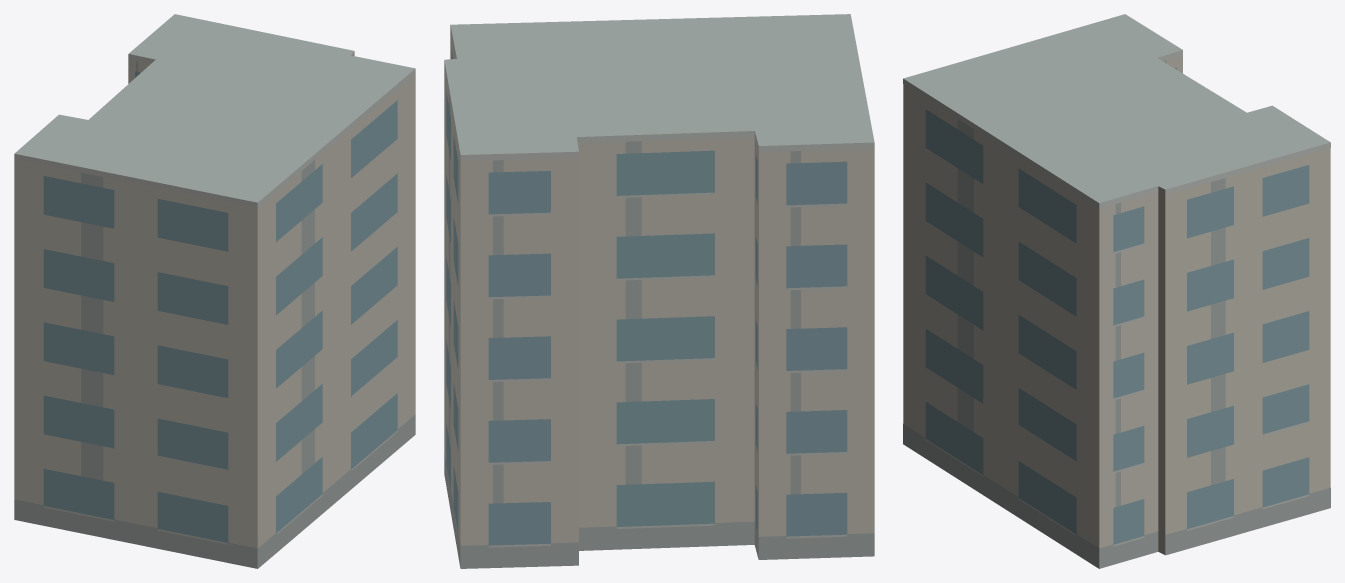
File: survey-upis-32883419.glb
3 renders of one model, left to right at view 1: azimuth 30°, elevation 25°; view 2: azimuth 150°, elevation 25°; view 3: azimuth 270°, elevation 25°, orthographic. The views are drawn at different scales.
Parts seen in each view (by area): view 1: survey-upis-32883419.tmp; view 2: survey-upis-32883419.tmp; view 3: survey-upis-32883419.tmp.
Part boxes in pixels (x1,y1,x2,y2): survey-upis-32883419.tmp: (14, 14, 415, 568); survey-upis-32883419.tmp: (444, 14, 874, 568); survey-upis-32883419.tmp: (903, 14, 1330, 568).
Bounding box in the file's own units: 17.98 × 16.2 × 17.18.
